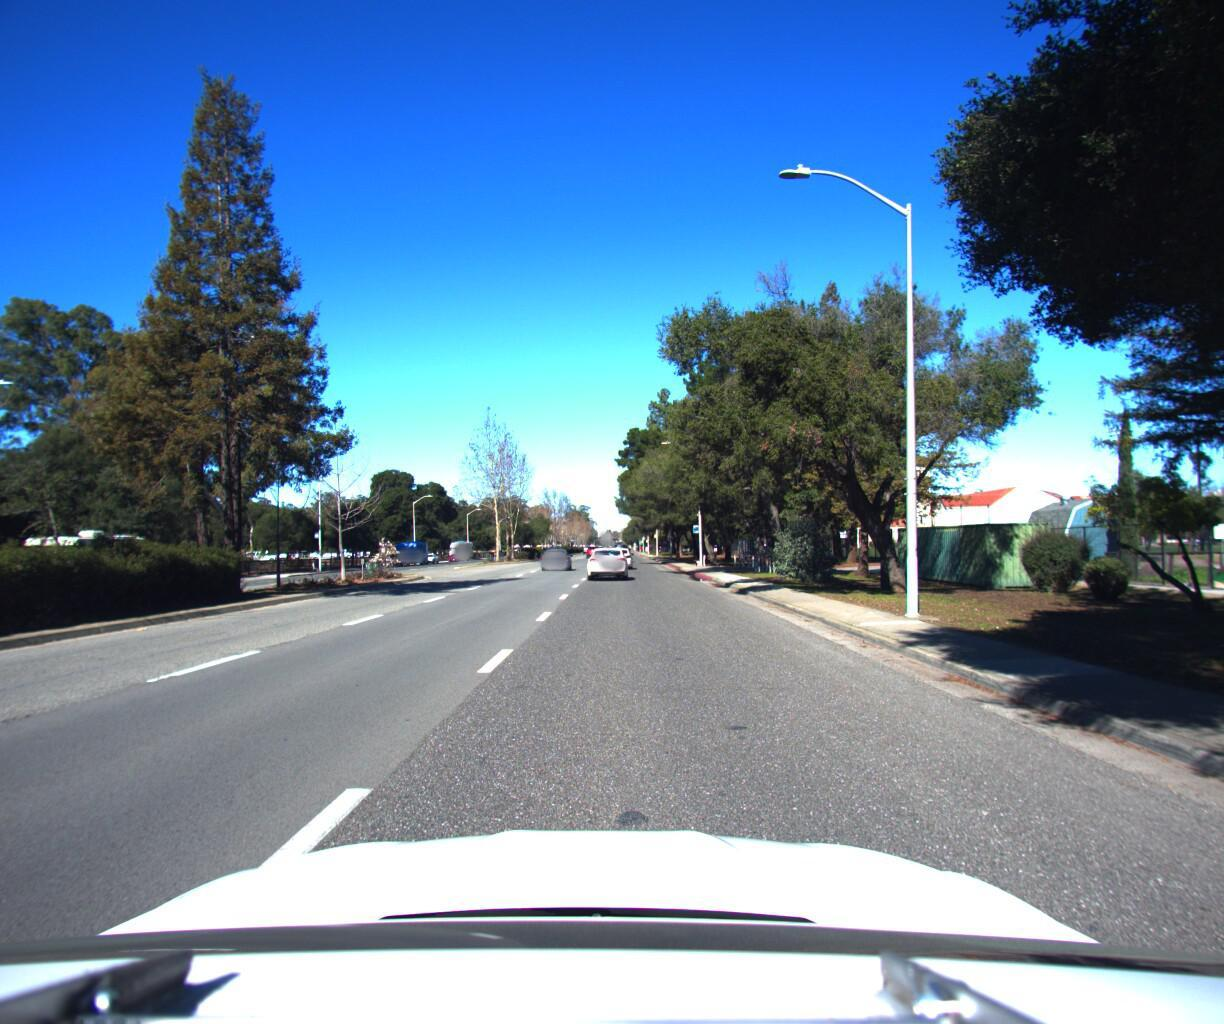car: (584, 539, 630, 574), (540, 538, 575, 562), (602, 536, 633, 562)
other_vehicle: (9, 518, 156, 589)
